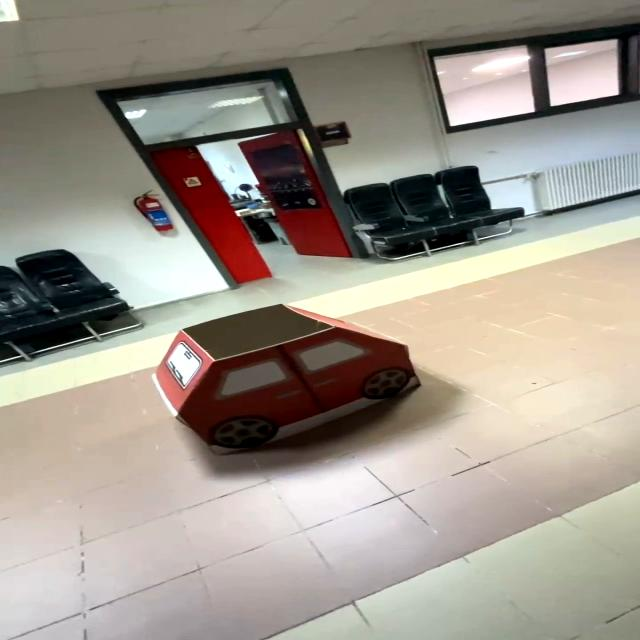red_car: (149, 287, 428, 451)
